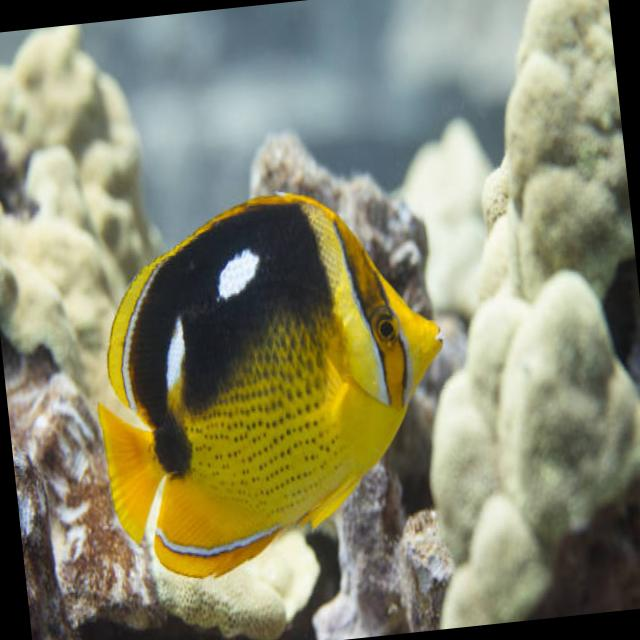ButterflyFish: (72, 178, 474, 595)
